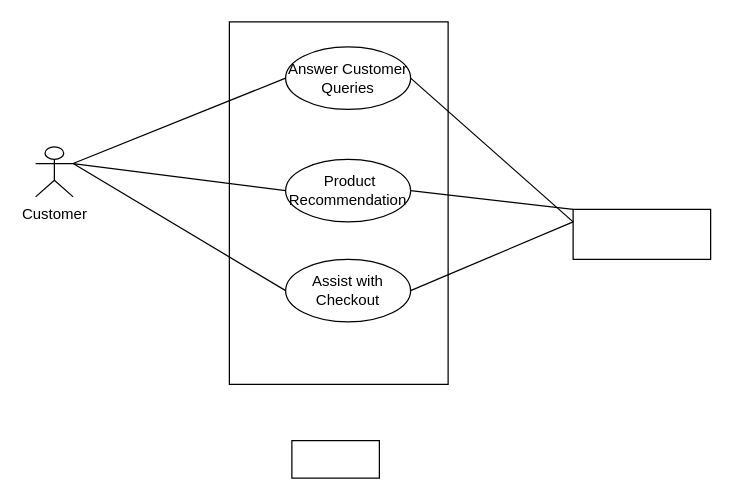
Some shapes in this 733 by 500 pixel diagram are drawn without their labels. Each missing label, with the centre of its shape:
"ChatBot" belongs at (x=335, y=458).
"Database" belongs at (x=641, y=233).
